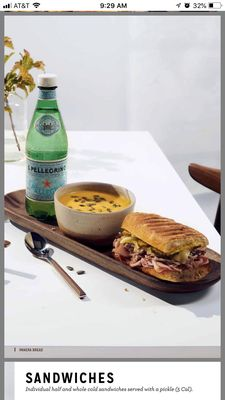salad: (24, 231, 89, 300)
soup: (111, 211, 216, 283)
sushi: (54, 181, 136, 243)
